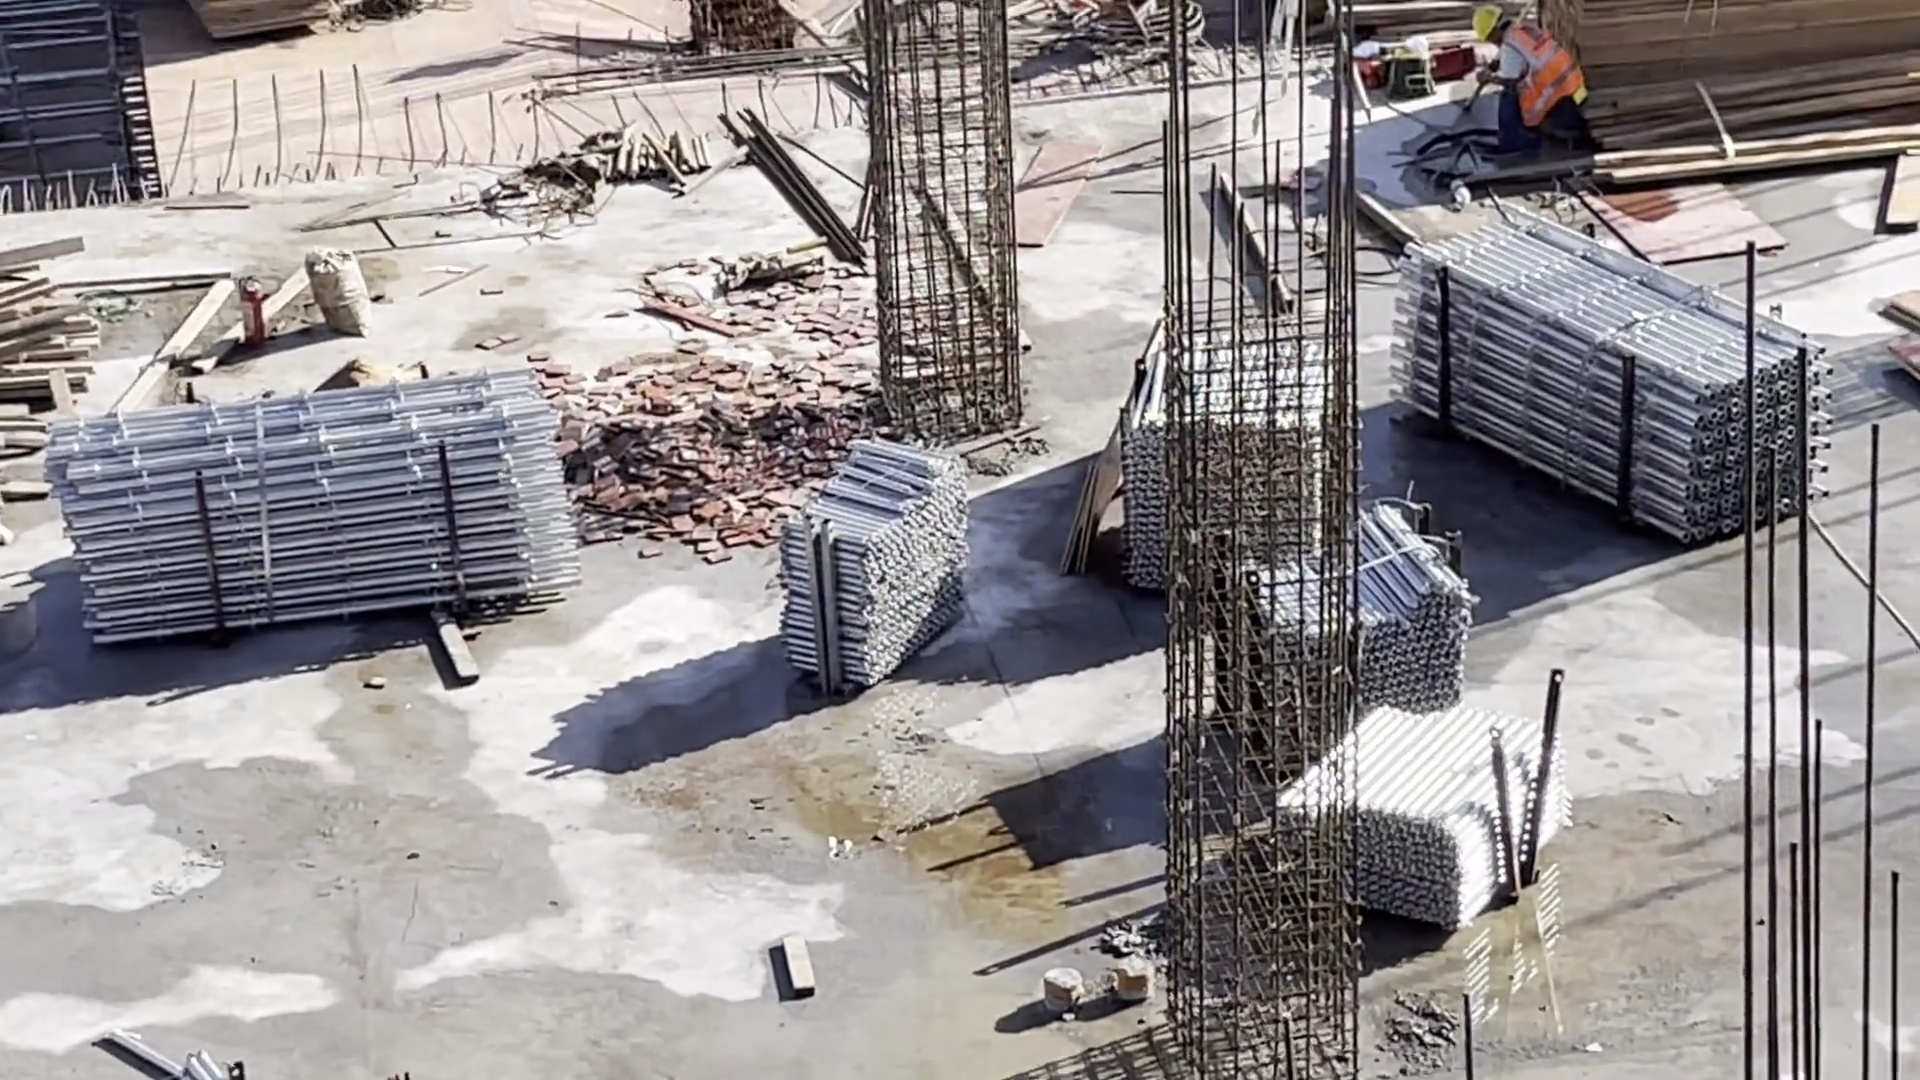helmet: (1476, 8, 1500, 38)
person: (1475, 6, 1592, 164)
scaffold: (1124, 315, 1573, 938), (40, 372, 587, 646), (1395, 202, 1833, 539), (773, 431, 972, 701)
vest: (1503, 23, 1581, 127)
wood: (1595, 5, 1920, 222)
